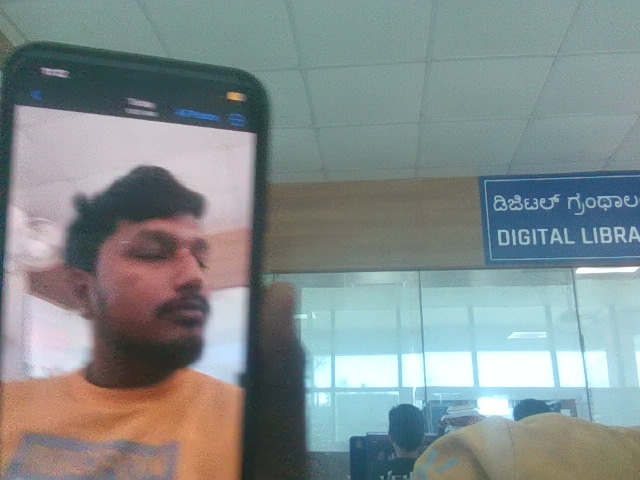fake: (83, 144, 240, 366)
